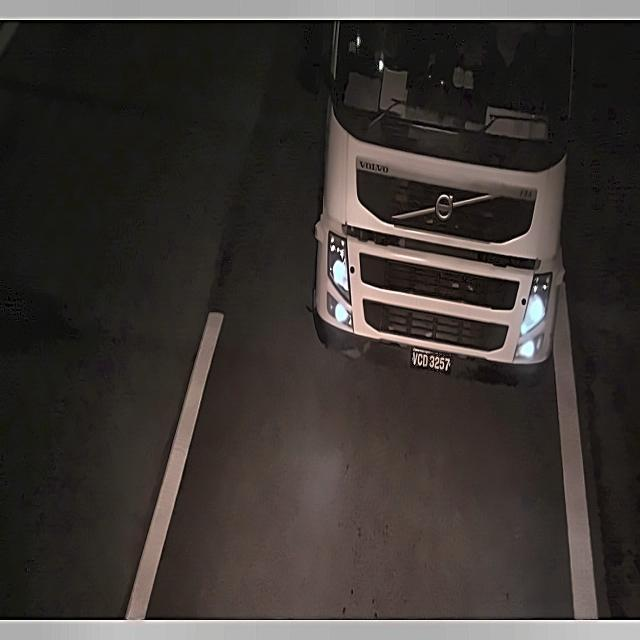car: (407, 342, 454, 380)
